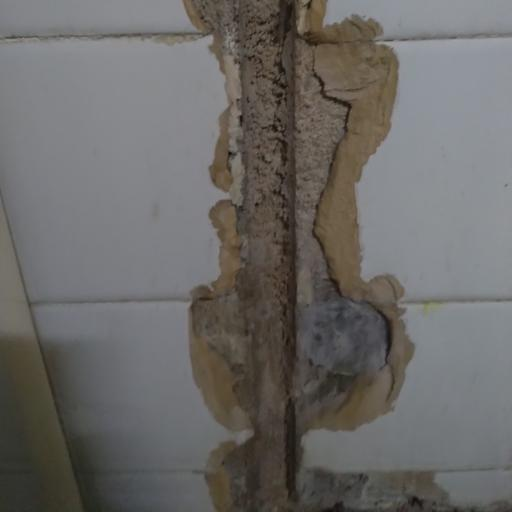spalling: (174, 0, 467, 512)
